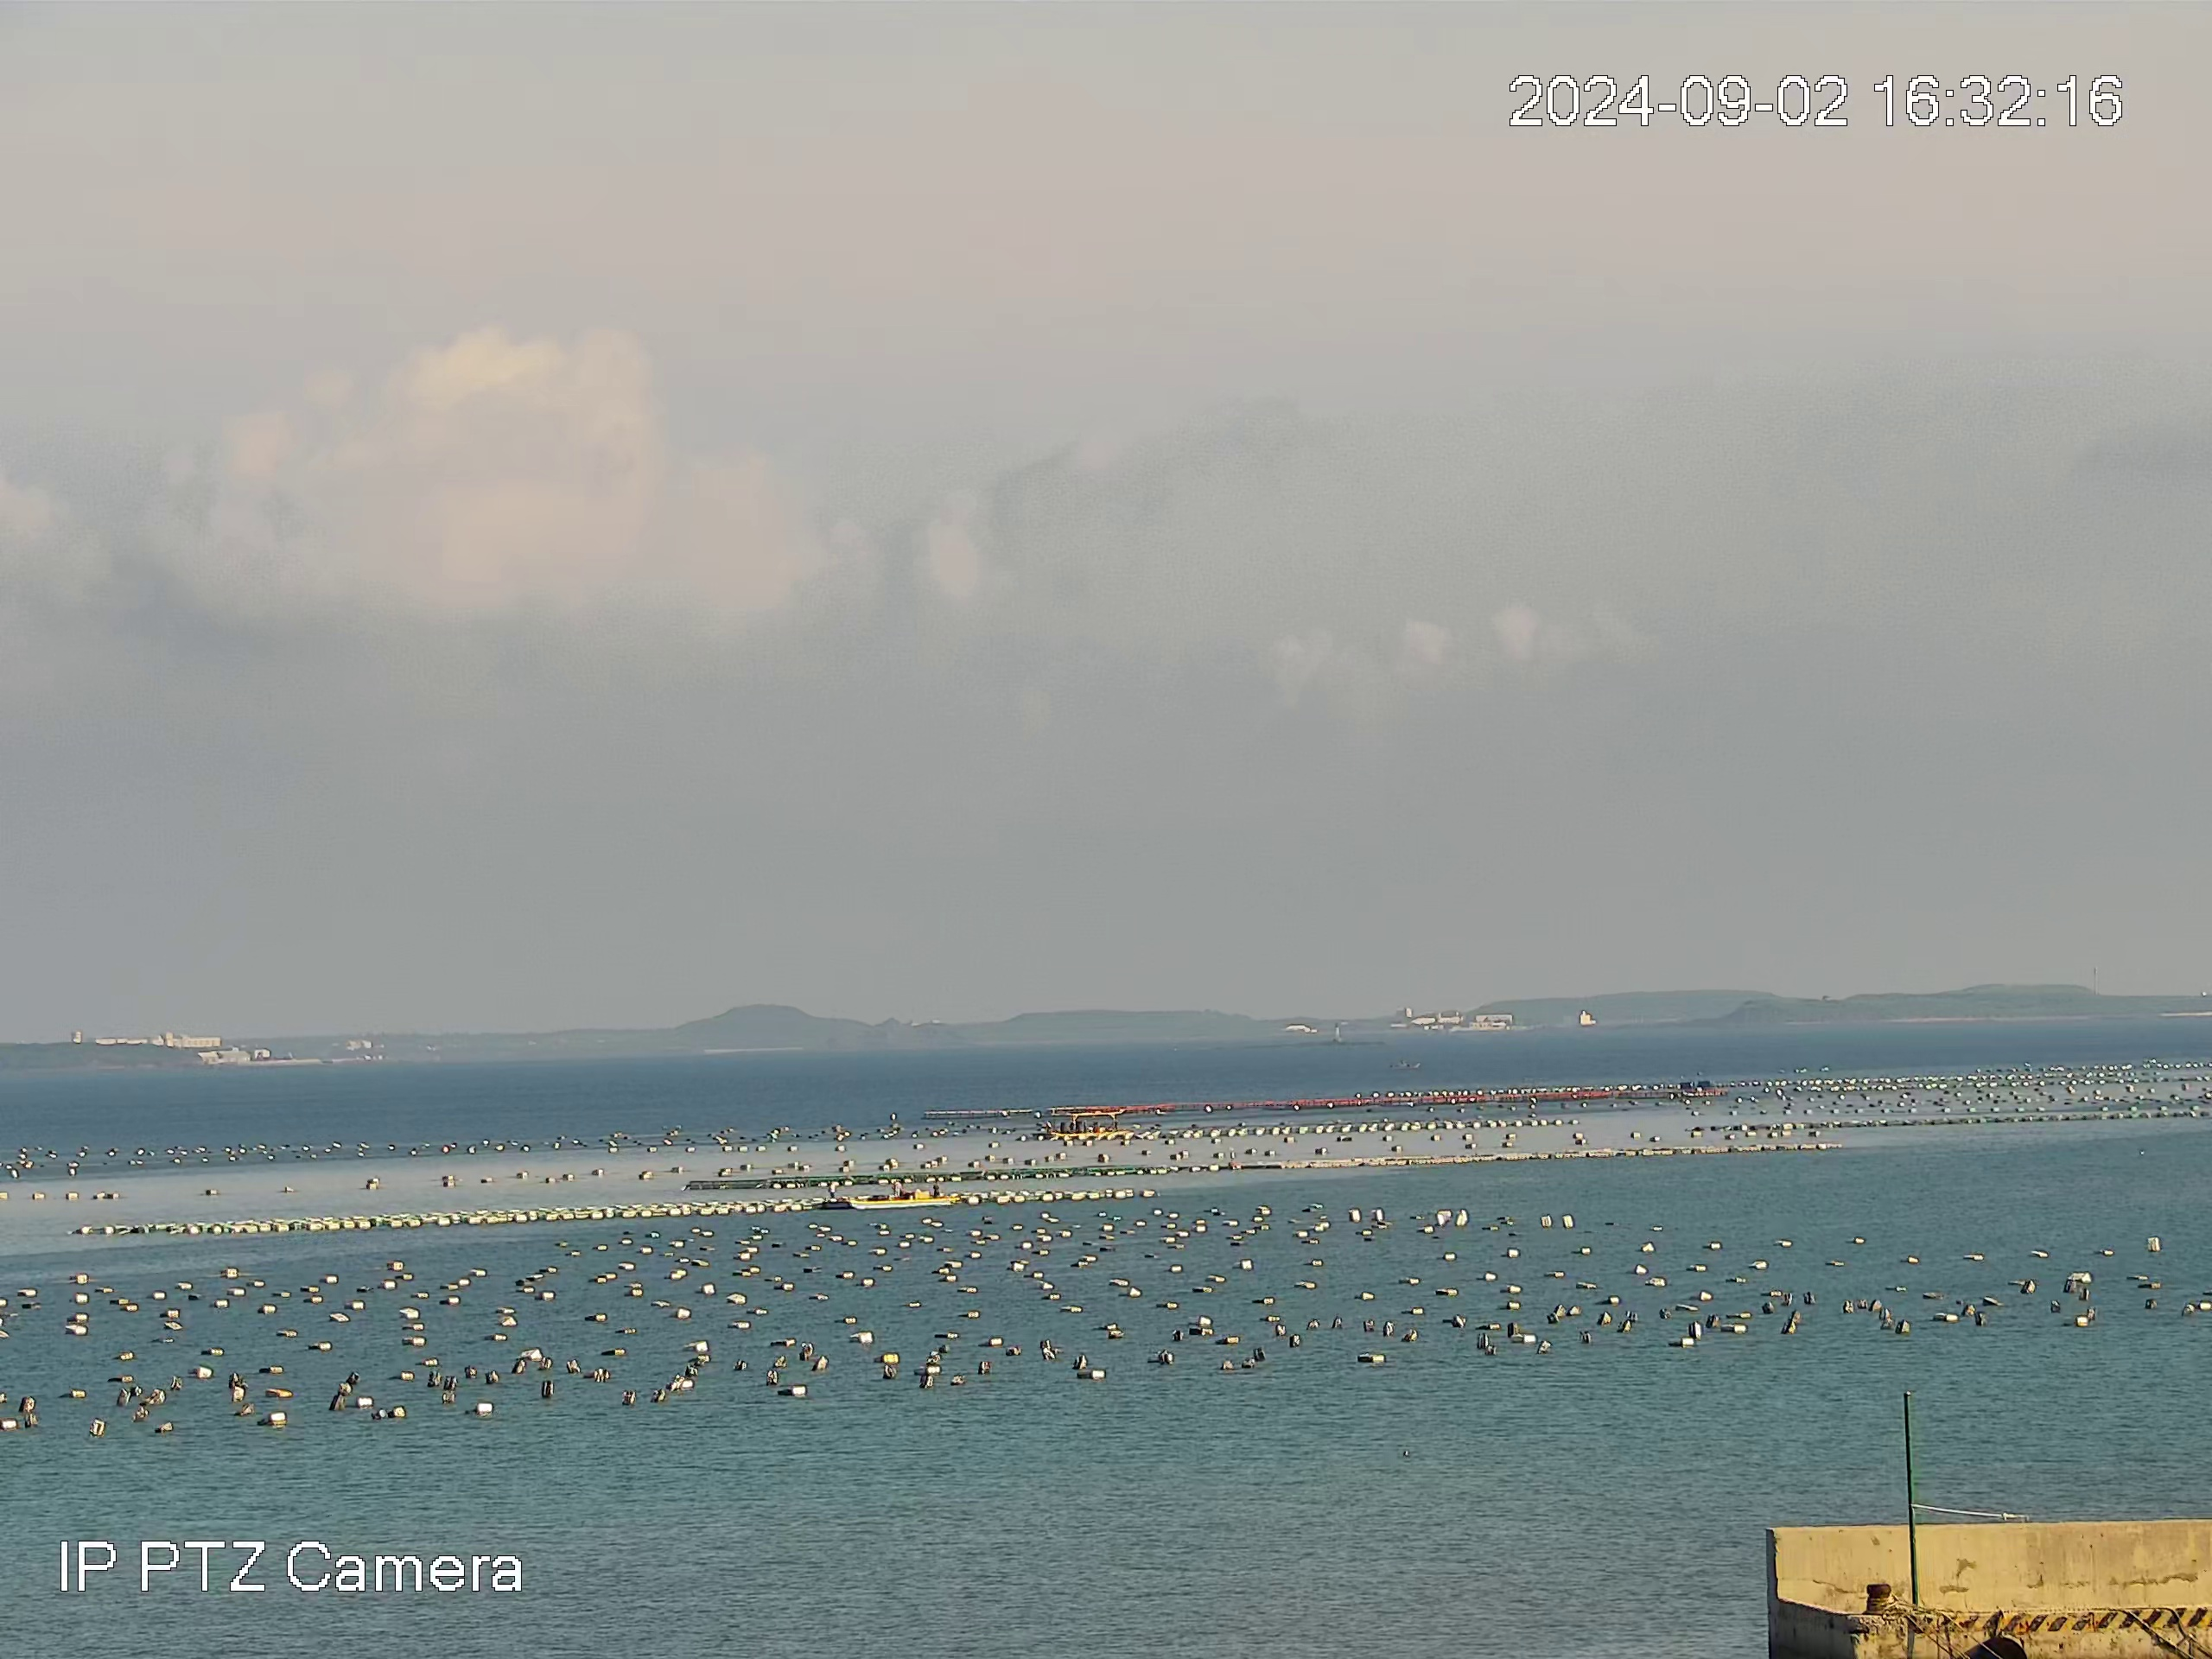boat: (843, 1178, 960, 1211), (1066, 1108, 1129, 1136)
